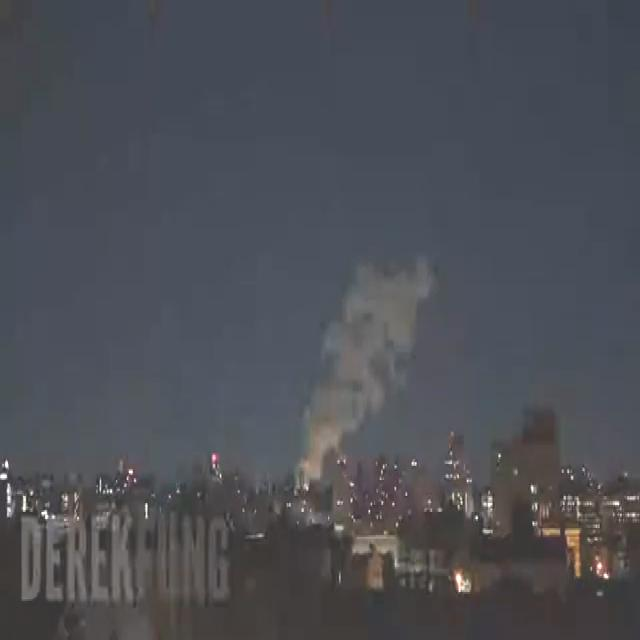smoke: (300, 256, 432, 480)
